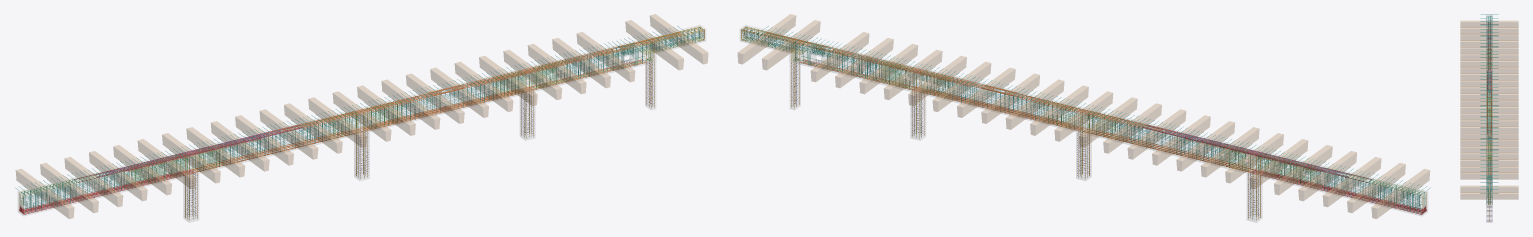
File: unterzug-441-m25-ft.glb
The picture shows the model from 3 angles, left to right: view 1: azimuth 30°, elevation 25°; view 2: azimuth 150°, elevation 25°; view 3: azimuth 270°, elevation 25°; orthographic projection. The views are drawn at different scales.
Visible parts, largest first — view 1: Beton, Fertigteiltraeger_3, Fertigteiltraeger_2, Fertigteiltraeger_1, Fertigteiltraeger_13, Fertigteiltraeger_18, Fertigteiltraeger_17, Fertigteiltraeger_19, Fertigteiltraeger_11, Fertigteiltraeger_12, Fertigteiltraeger_14, Fertigteiltraeger_15 (+15 smaller); view 2: Beton, Fertigteiltraeger_3, Fertigteiltraeger_1, Fertigteiltraeger_2, Fertigteiltraeger_13, Fertigteiltraeger_19, Fertigteiltraeger_15, Fertigteiltraeger_18, Fertigteiltraeger_11, Fertigteiltraeger_17, Fertigteiltraeger_12, Fertigteiltraeger_16 (+15 smaller); view 3: Beton, Fertigteiltraeger_26, Fertigteiltraeger_2, Fertigteiltraeger_24, Fertigteiltraeger_12, Fertigteiltraeger_19, Fertigteiltraeger_14, Fertigteiltraeger_4, Fertigteiltraeger_7, Fertigteiltraeger_9, Fertigteiltraeger_17, Fertigteiltraeger_22 (+27 smaller).
Boxes of the visible parts, x1,y1,x2,y2 form: Beton: (18,25,705,222); Fertigteiltraeger_3: (64,157,122,206); Fertigteiltraeger_2: (40,163,98,212); Fertigteiltraeger_1: (16,169,74,218); Fertigteiltraeger_13: (308,97,366,147); Fertigteiltraeger_18: (430,68,488,117); Fertigteiltraeger_17: (406,74,464,123); Fertigteiltraeger_19: (455,62,512,111); Fertigteiltraeger_11: (260,109,317,159); Fertigteiltraeger_12: (284,103,342,153); Fertigteiltraeger_14: (333,91,391,141); Fertigteiltraeger_15: (357,85,415,135); Beton: (740,25,1427,222); Fertigteiltraeger_3: (1323,157,1381,206); Fertigteiltraeger_1: (1371,169,1429,218); Fertigteiltraeger_2: (1347,163,1405,212); Fertigteiltraeger_13: (1079,97,1137,147); Fertigteiltraeger_19: (933,62,990,111); Fertigteiltraeger_15: (1030,85,1088,135); Fertigteiltraeger_18: (957,68,1015,117); Fertigteiltraeger_11: (1128,109,1185,159); Fertigteiltraeger_17: (981,74,1039,123); Fertigteiltraeger_12: (1103,103,1161,153); Fertigteiltraeger_16: (1006,79,1064,129); Beton: (1486,14,1492,222); Fertigteiltraeger_26: (1460,192,1518,199); Fertigteiltraeger_2: (1460,27,1518,34); Fertigteiltraeger_24: (1460,172,1518,179); Fertigteiltraeger_12: (1460,93,1518,100); Fertigteiltraeger_19: (1460,139,1518,146); Fertigteiltraeger_14: (1460,106,1518,113); Fertigteiltraeger_4: (1460,40,1518,47); Fertigteiltraeger_7: (1460,60,1518,67); Fertigteiltraeger_9: (1460,73,1518,80); Fertigteiltraeger_17: (1460,126,1518,133); Fertigteiltraeger_22: (1460,159,1518,166).
Size of the model in its own units: 1.34 by 0.128 by 0.18.
